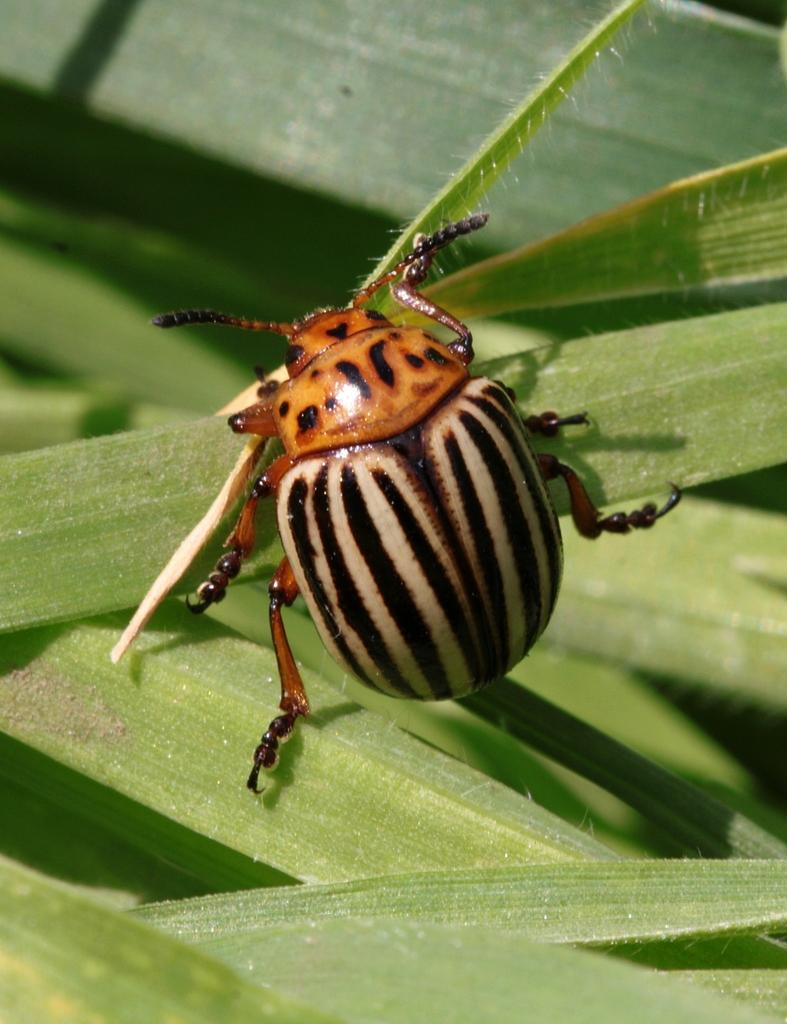potato_beetle: (120, 176, 731, 831)
